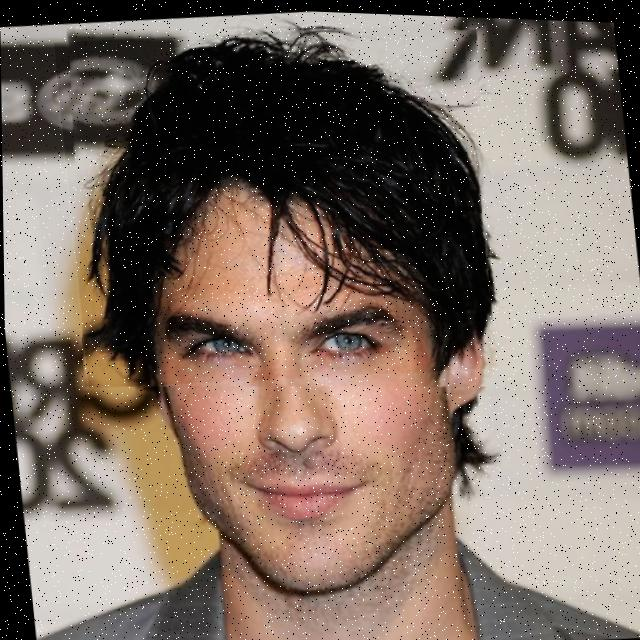hair: (82, 27, 489, 384)
